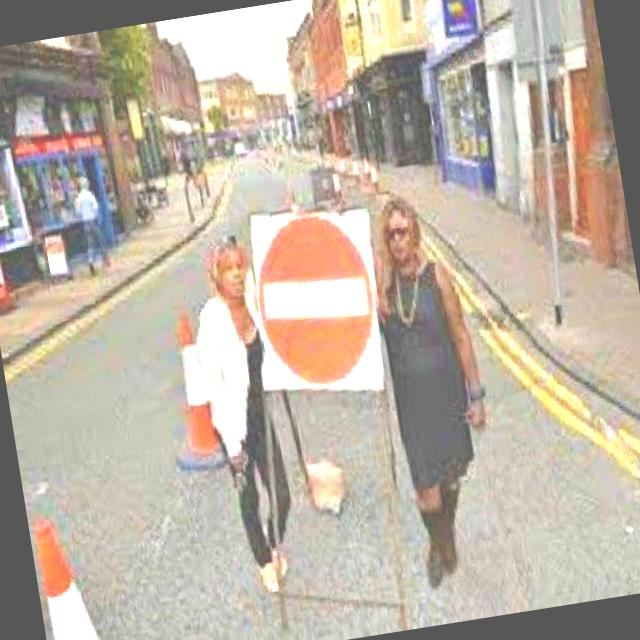Person: (363, 185, 523, 603), (182, 217, 304, 596)
